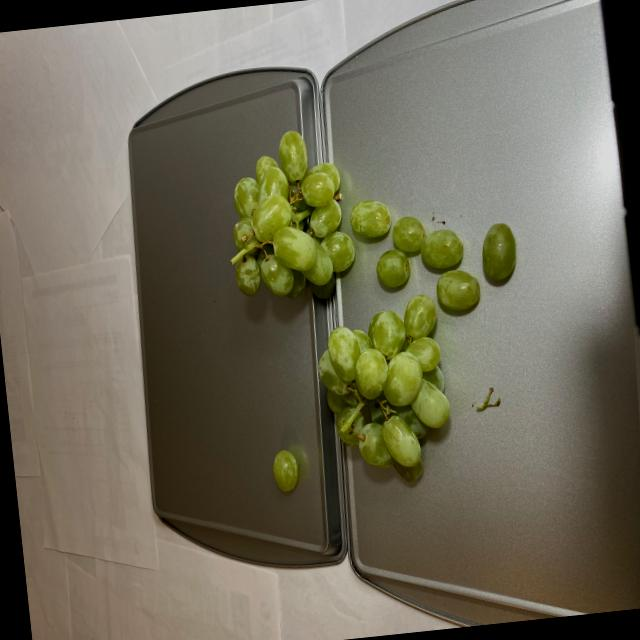grapes: (218, 110, 544, 500)
